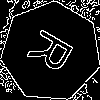R: (26, 26, 83, 81)
